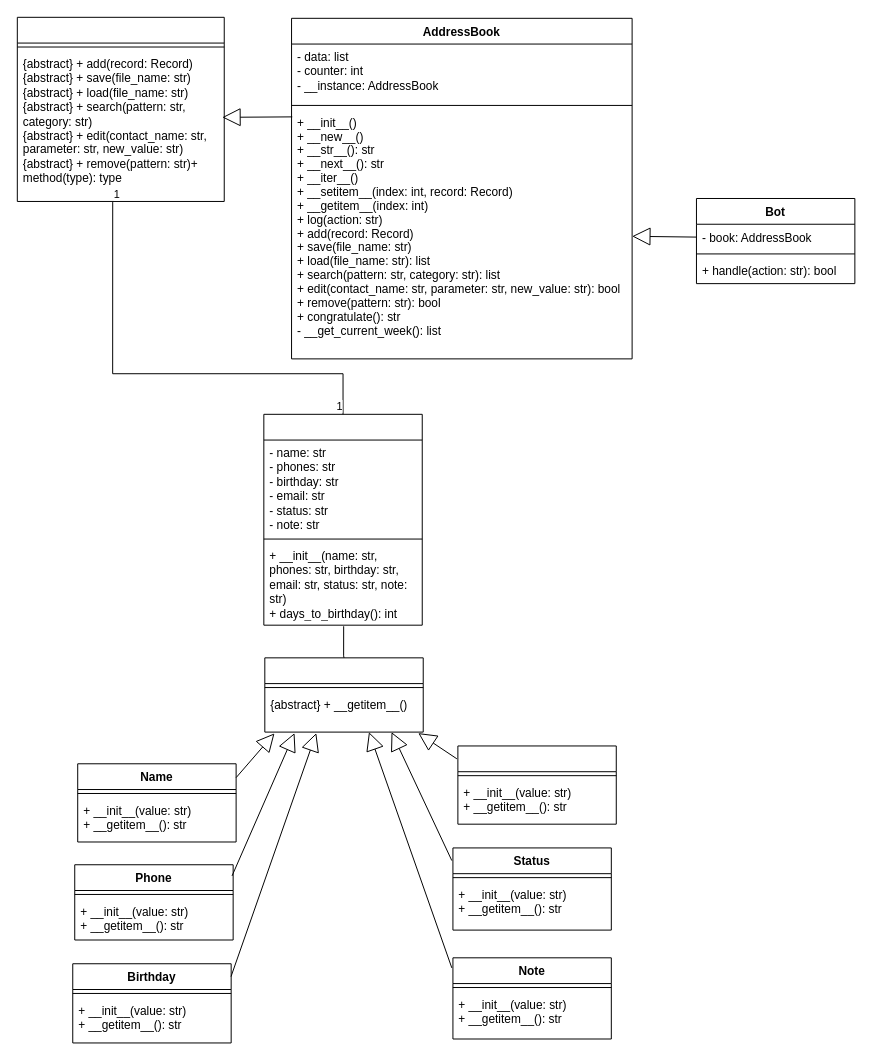
Image size: 872x1063. Some labels were removed from this diagram. Here are the shapes that lost their labels. From the top down, the box of each, then its label:
(16, 16, 224, 201): AddressBookABC
(263, 413, 422, 625): Record
(264, 657, 423, 732): Field
(457, 745, 616, 824): Email
